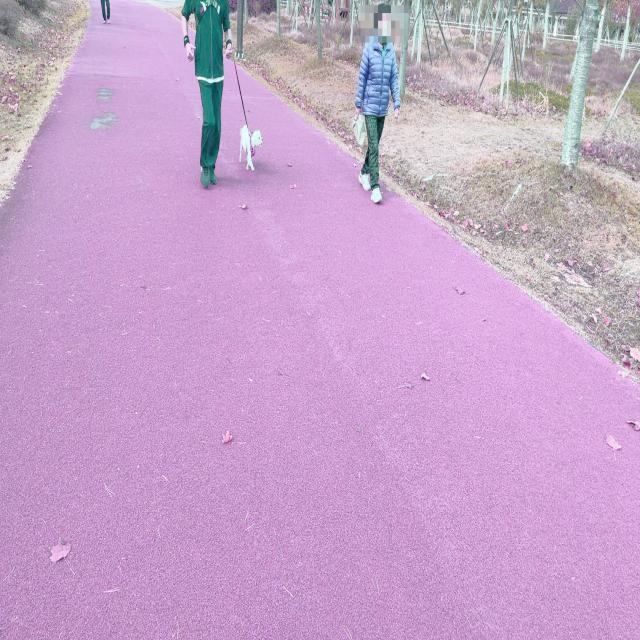Leashed_Dog: (214, 46, 264, 173)
